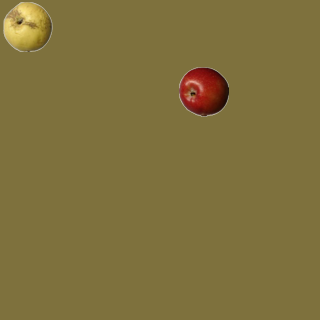Apple Braeburn: (178, 66, 228, 116)
Apple Golden 1: (2, 1, 52, 51)
